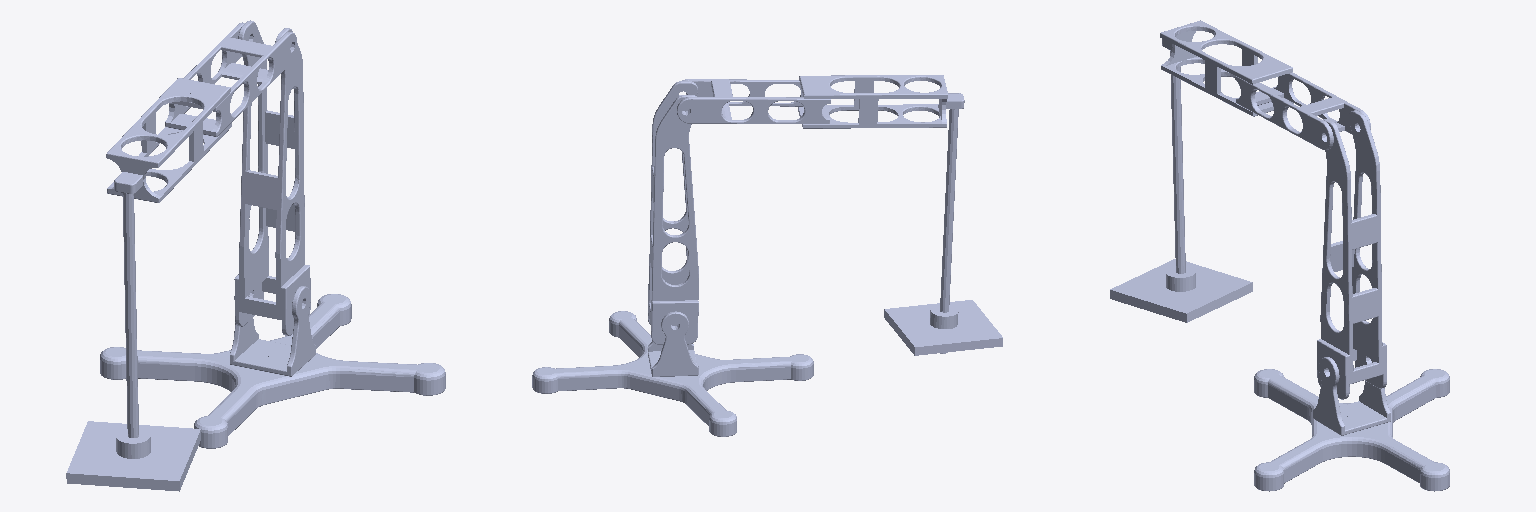
The robot description file, URDF, robot "Last.SLDASM":
<?xml version="1.0" encoding="utf-8"?>
<!-- This URDF was automatically created by SolidWorks to URDF Exporter! Originally created by [author] ([email redacted]) 
     Commit Version: 1.6.0-4-g7f85cfe  Build Version: 1.6.7995.38578
     For more information, please see http://wiki.ros.org/sw_urdf_exporter -->
<robot
  name="Last.SLDASM">
  <link
    name="base">
    <inertial>
      <origin
        xyz="3.73997571907512E-17 -4.06693374682613E-17 0.00492622466159051"
        rpy="0 0 0" />
      <mass
        value="0.595685431532399" />
      <inertia
        ixx="0.00234455610349601"
        ixy="4.47202626288798E-11"
        ixz="7.51404981597692E-20"
        iyy="0.00402765803889398"
        iyz="-1.5925572385181E-19"
        izz="0.00631166014571594" />
    </inertial>
    <visual>
      <origin
        xyz="0 0 0"
        rpy="0 0 0" />
      <geometry>
        <mesh
          filename="package://Last.SLDASM/meshes/base.STL" />
      </geometry>
      <material
        name="">
        <color
          rgba="0.792156862745098 0.819607843137255 0.933333333333333 1" />
      </material>
    </visual>
    <collision>
      <origin
        xyz="0 0 0"
        rpy="0 0 0" />
      <geometry>
        <mesh
          filename="package://Last.SLDASM/meshes/base.STL" />
      </geometry>
    </collision>
  </link>
  <link
    name="servo_joint">
    <inertial>
      <origin
        xyz="1.94959395830779E-07 5.41191680185135E-07 0.0203725729535382"
        rpy="0 0 0" />
      <mass
        value="0.0668872208716784" />
      <inertia
        ixx="9.60027536903093E-05"
        ixy="2.05989968635812E-05"
        ixz="4.93673327584063E-10"
        iyy="8.05860489016923E-05"
        iyz="1.54361301455358E-09"
        izz="7.44832233305413E-05" />
    </inertial>
    <visual>
      <origin
        xyz="0 0 0"
        rpy="0 0 0" />
      <geometry>
        <mesh
          filename="package://Last.SLDASM/meshes/servo_joint.STL" />
      </geometry>
      <material
        name="">
        <color
          rgba="0.792156862745098 0.819607843137255 0.933333333333333 1" />
      </material>
    </visual>
    <collision>
      <origin
        xyz="0 0 0"
        rpy="0 0 0" />
      <geometry>
        <mesh
          filename="package://Last.SLDASM/meshes/servo_joint.STL" />
      </geometry>
    </collision>
  </link>
  <joint
    name="joint_1"
    type="revolute">
    <origin
      xyz="0 0 0.0231695161478648"
      rpy="0 0 0" />
    <parent
      link="base" />
    <child
      link="servo_joint" />
    <axis
      xyz="0 2.41936672379505E-05 0.999999999668945" />
    <limit
      lower="0"
      upper="6.28"
      effort="200"
      velocity="1" />
  </joint>
  <link
    name="arm_1">
    <inertial>
      <origin
        xyz="-0.0207803400936203 0.03122510339151 0.113991046997946"
        rpy="0 0 0" />
      <mass
        value="0.220123707288954" />
      <inertia
        ixx="0.00261857313523657"
        ixy="8.4406669848721E-06"
        ixz="9.45555075385672E-06"
        iyy="0.00261226438659932"
        iyz="6.56504359029478E-06"
        izz="0.000197747963076652" />
    </inertial>
    <visual>
      <origin
        xyz="0 0 0"
        rpy="0 0 0" />
      <geometry>
        <mesh
          filename="package://Last.SLDASM/meshes/arm_1.STL" />
      </geometry>
      <material
        name="">
        <color
          rgba="0.792156862745098 0.819607843137255 0.933333333333333 1" />
      </material>
    </visual>
    <collision>
      <origin
        xyz="0 0 0"
        rpy="0 0 0" />
      <geometry>
        <mesh
          filename="package://Last.SLDASM/meshes/arm_1.STL" />
      </geometry>
    </collision>
  </link>
  <joint
    name="joint_2"
    type="revolute">
    <origin
      xyz="0.0213719544798081 -0.0308143894150592 0.0693552294789635"
      rpy="0 0 0" />
    <parent
      link="servo_joint" />
    <child
      link="arm_1" />
    <axis
      xyz="-0.569911281928333 0.821706231405606 0" />
    <limit
      lower="-1.57"
      upper="1.57"
      effort="100"
      velocity="0.5" />
  </joint>
  <link
    name="arm_2">
    <inertial>
      <origin
        xyz="-0.0969237276633229 -0.0291865197920551 -0.00401094929820406"
        rpy="0 0 0" />
      <mass
        value="0.0905770113130964" />
      <inertia
        ixx="0.000181847676994543"
        ixy="-0.00015989463636253"
        ixz="-1.23882957458344E-05"
        iyy="0.000301577323973802"
        iyz="-8.59097134804011E-06"
        izz="0.000449226080774832" />
    </inertial>
    <visual>
      <origin
        xyz="0 0 0"
        rpy="0 0 0" />
      <geometry>
        <mesh
          filename="package://Last.SLDASM/meshes/arm_2.STL" />
      </geometry>
      <material
        name="">
        <color
          rgba="0.792156862745098 0.819607843137255 0.933333333333333 1" />
      </material>
    </visual>
    <collision>
      <origin
        xyz="0 0 0"
        rpy="0 0 0" />
      <geometry>
        <mesh
          filename="package://Last.SLDASM/meshes/arm_2.STL" />
      </geometry>
    </collision>
  </link>
  <joint
    name="joint_3"
    type="revolute">
    <origin
      xyz="-0.015925 -0.0034388 0.31234"
      rpy="0 0 0" />
    <parent
      link="arm_1" />
    <child
      link="arm_2" />
    <axis
      xyz="-0.56991 0.82171 0" />
    <limit
      lower="-0.78"
      upper="1.57"
      effort="100"
      velocity="0.5" />
  </joint>
  <link
    name="end">
    <inertial>
      <origin
        xyz="0.00188096249274518 -0.0758348480221602 -0.0250038177287722"
        rpy="0 0 0" />
      <mass
        value="0.0983467515509787" />
      <inertia
        ixx="0.000493516548857623"
        ixy="1.01674361739297E-05"
        ixz="9.71376530675462E-10"
        iyy="8.38473935994369E-05"
        iyz="-2.36673023962058E-08"
        izz="0.000502243174743658" />
    </inertial>
    <visual>
      <origin
        xyz="0 0 0"
        rpy="0 0 0" />
      <geometry>
        <mesh
          filename="package://Last.SLDASM/meshes/end.STL" />
      </geometry>
      <material
        name="">
        <color
          rgba="0.792156862745098 0.819607843137255 0.933333333333333 1" />
      </material>
    </visual>
    <collision>
      <origin
        xyz="0 0 0"
        rpy="0 0 0" />
      <geometry>
        <mesh
          filename="package://Last.SLDASM/meshes/end.STL" />
      </geometry>
    </collision>
  </link>
  <joint
    name="joint_4"
    type="revolute">
    <origin
      xyz="-0.1675 -0.078141 0.017078"
      rpy="0.043593 0 -0.9644" />
    <parent
      link="arm_2" />
    <child
      link="end" />
    <axis
      xyz="0 0 1" />
    <limit
      lower="-1.57"
      upper="1.57"
      effort="100"
      velocity="0.5" />
  </joint>
  <link
    name="laproscope">
    <inertial>
      <origin
        xyz="0.00671418967516202 0.00465676454508099 -0.187321873258244"
        rpy="0 0 0" />
      <mass
        value="0.0460194236365692" />
      <inertia
        ixx="0.000539048581644188"
        ixy="-4.79220891819611E-07"
        ixz="1.92770225531289E-05"
        iyy="0.000539407155654697"
        iyz="1.33699760512008E-05"
        izz="1.92213791900841E-06" />
    </inertial>
    <visual>
      <origin
        xyz="0 0 0"
        rpy="0 0 0" />
      <geometry>
        <mesh
          filename="package://Last.SLDASM/meshes/laproscope.STL" />
      </geometry>
      <material
        name="">
        <color
          rgba="0.792156862745098 0.819607843137255 0.933333333333333 1" />
      </material>
    </visual>
    <collision>
      <origin
        xyz="0 0 0"
        rpy="0 0 0" />
      <geometry>
        <mesh
          filename="package://Last.SLDASM/meshes/laproscope.STL" />
      </geometry>
    </collision>
  </link>
  <joint
    name="joint_5"
    type="fixed">
    <origin
      xyz="0.0044942 -0.18119 -0.01875"
      rpy="-0.024855 0.035817 0.96395" />
    <parent
      link="end" />
    <child
      link="laproscope" />
    <axis
      xyz="0 0 0" />
  </joint>
  <link
    name="laproholder">
    <inertial>
      <origin
        xyz="-0.00140379746072894 -0.00097363264367975 0.0391651089321639"
        rpy="0 0 0" />
      <mass
        value="0.0322135965455985" />
      <inertia
        ixx="1.08616654517452E-05"
        ixy="-5.27011656320192E-09"
        ixz="2.11994421738786E-07"
        iyy="1.08656087832322E-05"
        iyz="1.47033097763118E-07"
        izz="4.95474650073436E-06" />
    </inertial>
    <visual>
      <origin
        xyz="0 0 0"
        rpy="0 0 0" />
      <geometry>
        <mesh
          filename="package://Last.SLDASM/meshes/laproholder.STL" />
      </geometry>
      <material
        name="">
        <color
          rgba="0.792156862745098 0.819607843137255 0.933333333333333 1" />
      </material>
    </visual>
    <collision>
      <origin
        xyz="0 0 0"
        rpy="0 0 0" />
      <geometry>
        <mesh
          filename="package://Last.SLDASM/meshes/laproholder.STL" />
      </geometry>
    </collision>
  </link>
  <joint
    name="joint_6"
    type="prismatic">
    <origin
      xyz="0.013428 0.0093135 -0.37464"
      rpy="0 0 0" />
    <parent
      link="laproscope" />
    <child
      link="laproholder" />
    <axis
      xyz="-0.035809 -0.024836 0.99905" />
    <limit
      lower="0"
      upper="0.27"
      effort="100"
      velocity="5" />
  </joint>
  <link
    name="stomach">
    <inertial>
      <origin
        xyz="0.000223806322506681 0.000155225484836097 -0.00624406244194283"
        rpy="0 0 0" />
      <mass
        value="0.189176576848457" />
      <inertia
        ixx="0.000256859339323337"
        ixy="2.2377091409996E-07"
        ixz="-9.00135413850748E-06"
        iyy="0.000256691904147881"
        iyz="-6.24307456862417E-06"
        izz="0.000507669096058448" />
    </inertial>
    <visual>
      <origin
        xyz="0 0 0"
        rpy="0 0 0" />
      <geometry>
        <mesh
          filename="package://Last.SLDASM/meshes/stomach.STL" />
      </geometry>
      <material
        name="">
        <color
          rgba="0.792156862745098 0.819607843137255 0.933333333333333 1" />
      </material>
    </visual>
    <collision>
      <origin
        xyz="0 0 0"
        rpy="0 0 0" />
      <geometry>
        <mesh
          filename="package://Last.SLDASM/meshes/stomach.STL" />
      </geometry>
    </collision>
  </link>
  <joint
    name="joint_7"
    type="fixed">
    <origin
      xyz="-0.0014997 -0.0010402 0.041841"
      rpy="0 0 0" />
    <parent
      link="laproholder" />
    <child
      link="stomach" />
    <axis
      xyz="0 0 0" />
  </joint>
</robot>

--- Facts derived from the render (not from the file) ---
Views: 3 orthographic renders of the robot side by side, from view 1: azimuth 30°, elevation 25°; view 2: azimuth 150°, elevation 25°; view 3: azimuth 270°, elevation 25°.
Model Last.SLDASM with 8 links and 7 joints (4 revolute, 1 prismatic, 2 fixed), rooted at base, posed all joints at 0.
Links seen in each view (by area): view 1: base, arm_1, end, stomach, arm_2, servo_joint, laproscope, laproholder; view 2: base, arm_1, end, arm_2, stomach, servo_joint, laproscope, laproholder; view 3: arm_1, base, end, stomach, arm_2, servo_joint, laproscope, laproholder.
Boxes of the visible links, <box> form: base: <box>100,294,445,448</box>; arm_1: <box>234,20,310,335</box>; end: <box>106,78,231,202</box>; stomach: <box>66,421,200,491</box>; arm_2: <box>165,22,296,136</box>; servo_joint: <box>230,286,315,376</box>; laproscope: <box>122,176,138,437</box>; laproholder: <box>116,428,150,458</box>; base: <box>532,311,813,436</box>; arm_1: <box>648,81,698,344</box>; end: <box>798,75,964,128</box>; arm_2: <box>677,79,830,123</box>; stomach: <box>884,300,1002,355</box>; servo_joint: <box>648,311,698,376</box>; laproscope: <box>940,95,958,353</box>; laproholder: <box>930,305,958,352</box>; arm_1: <box>1317,110,1386,399</box>; base: <box>1254,369,1449,491</box>; end: <box>1160,20,1293,116</box>; stomach: <box>1110,259,1252,322</box>; arm_2: <box>1235,66,1370,149</box>; servo_joint: <box>1313,357,1390,435</box>; laproscope: <box>1170,51,1185,273</box>; laproholder: <box>1166,266,1195,291</box>.
Bounding box of the posed robot: 0.5387 × 0.4195 × 0.4311 m (x, y, z).
8 mesh visuals loaded from 8 distinct referenced files (8 binary STL).